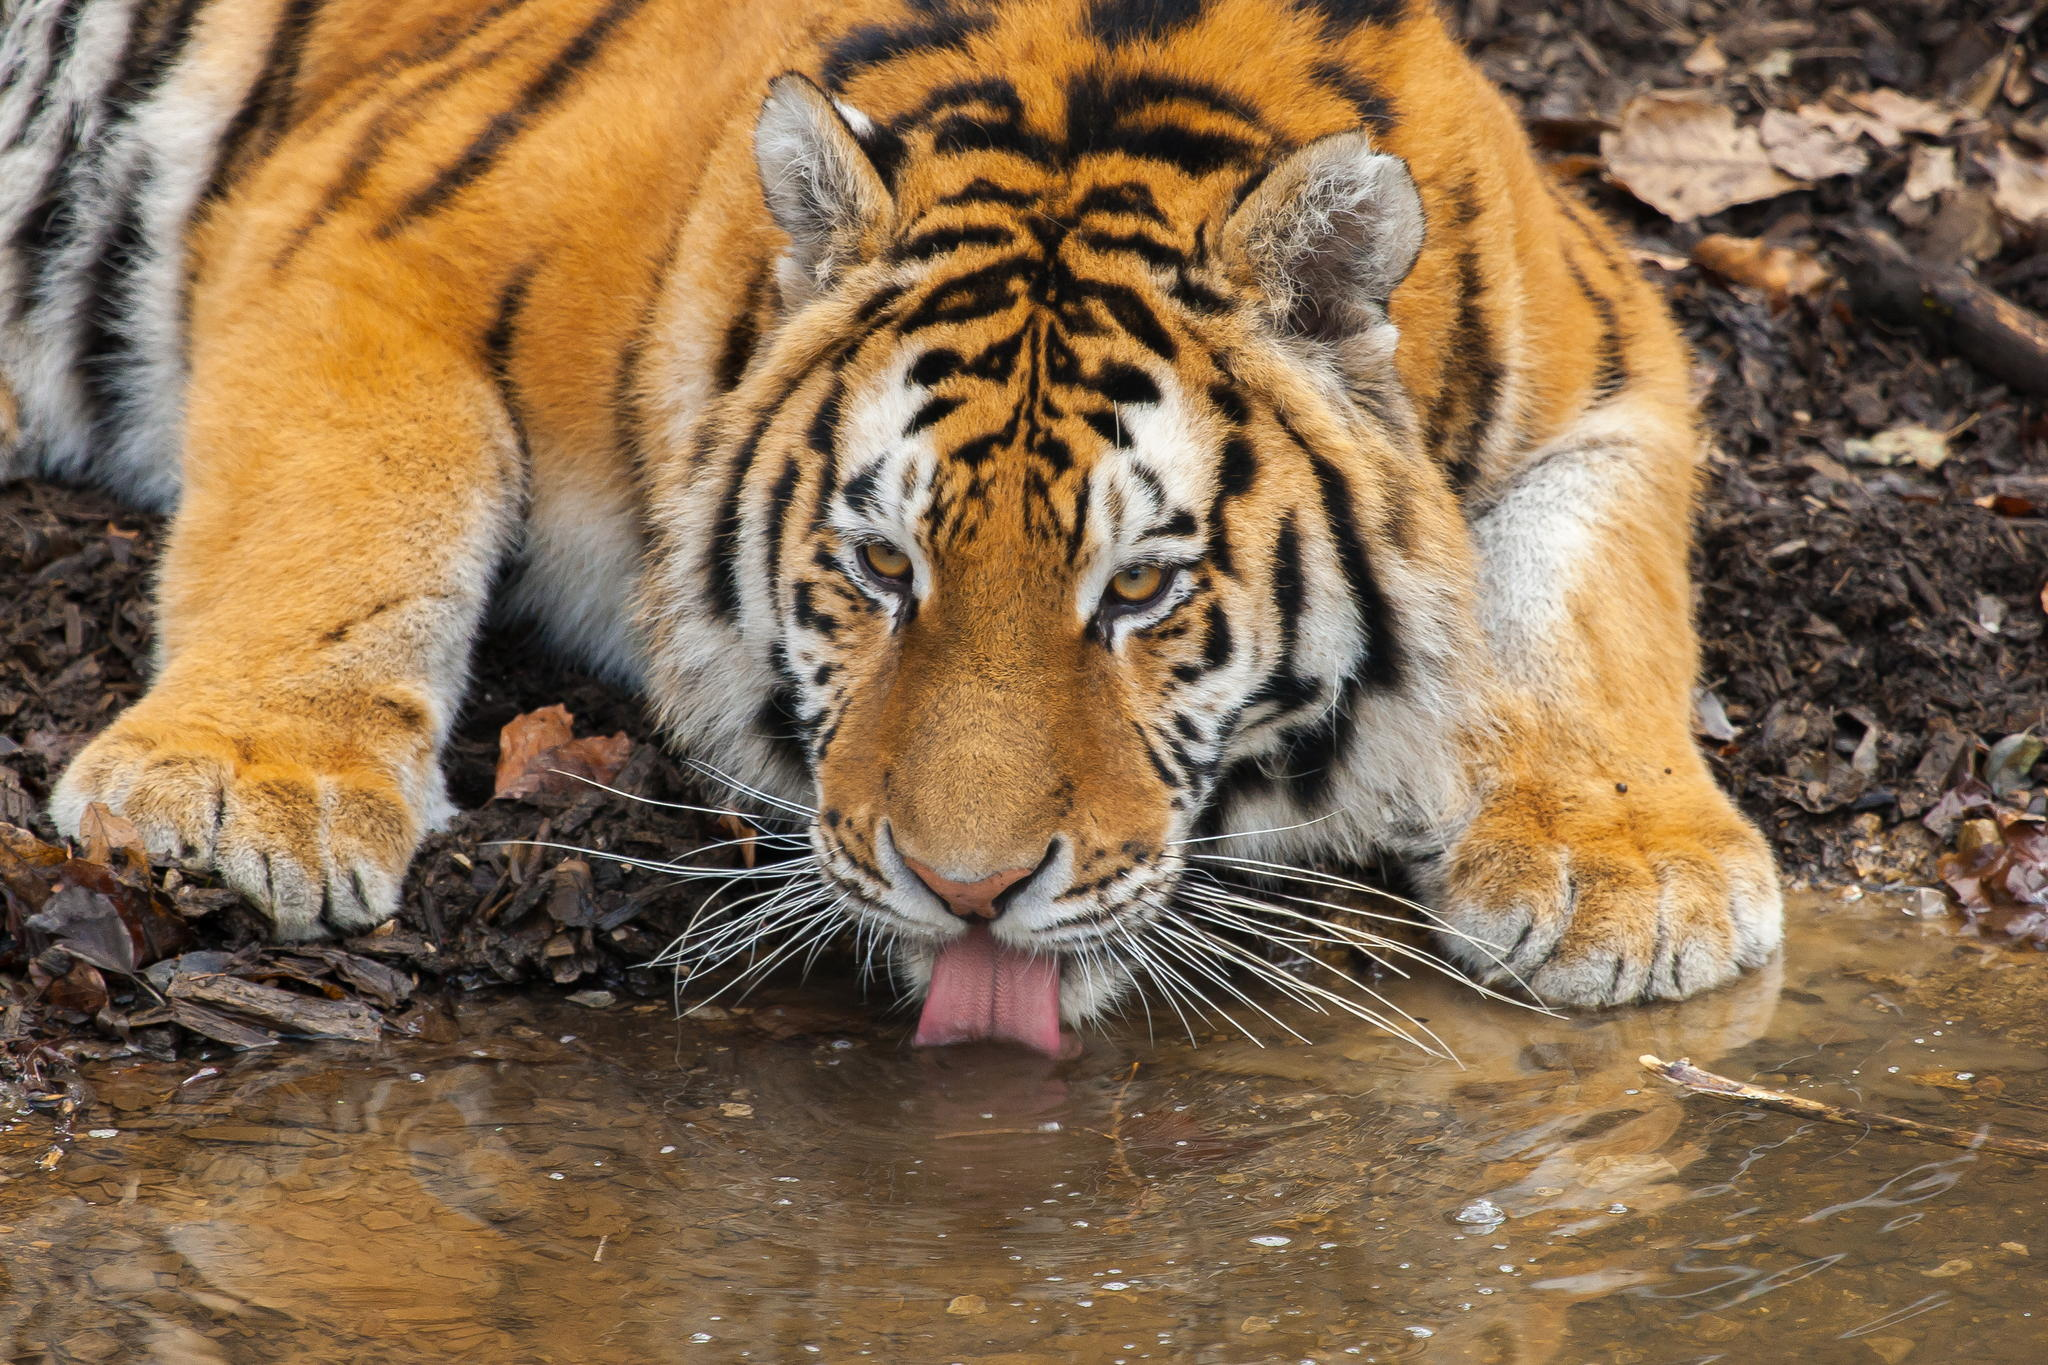tiger: (62, 41, 1791, 1034)
